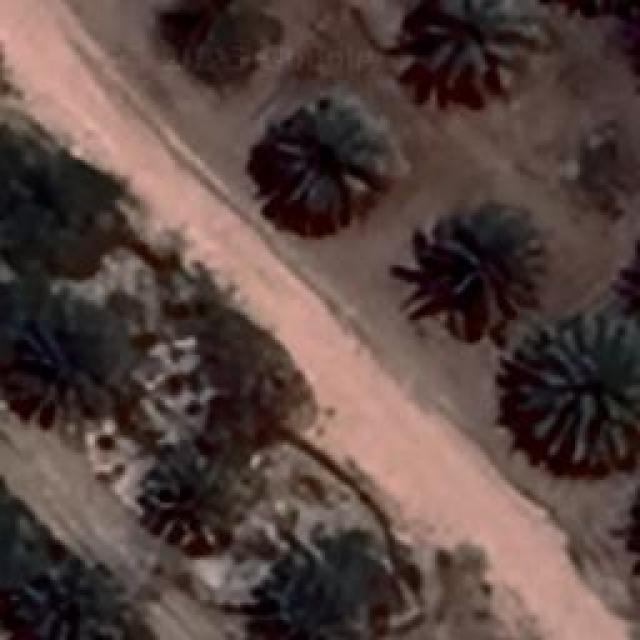PalmTree: (515, 312, 635, 470), (268, 98, 388, 220), (11, 308, 124, 426), (428, 218, 538, 322), (407, 5, 535, 94), (158, 0, 283, 90), (142, 452, 240, 546), (13, 562, 118, 640), (265, 555, 353, 640), (545, 0, 640, 20)
